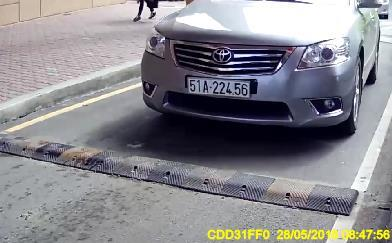number_plate: (187, 76, 251, 99)
